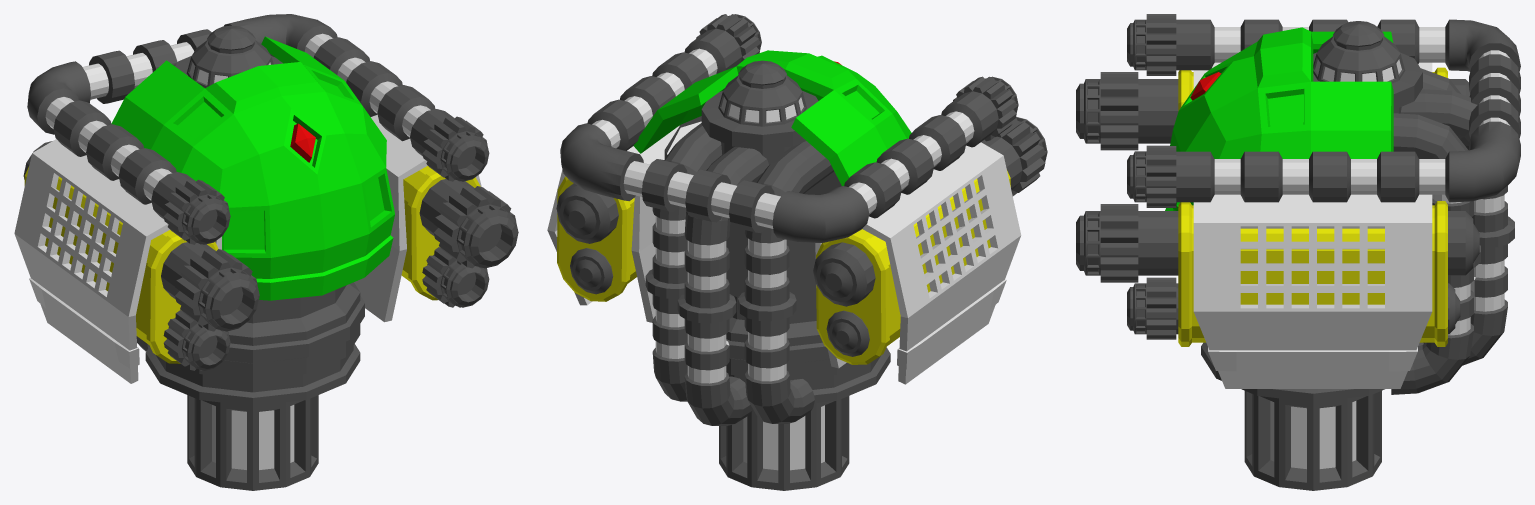
File: tower2_3.fbx
The picture shows the model from 3 angles, left to right: view 1: azimuth 30°, elevation 25°; view 2: azimuth 150°, elevation 25°; view 3: azimuth 270°, elevation 25°; orthographic projection. The views are drawn at different scales.
Visible parts, largest first — view 1: polySurface117; view 2: polySurface117; view 3: polySurface117.
Boxes of the visible parts, x1,y1,x2,y2 form: polySurface117: (14, 14, 518, 490); polySurface117: (547, 14, 1047, 490); polySurface117: (1076, 14, 1520, 490).
Bounding box in the file's own units: 0.682 × 0.7507 × 0.6914.
